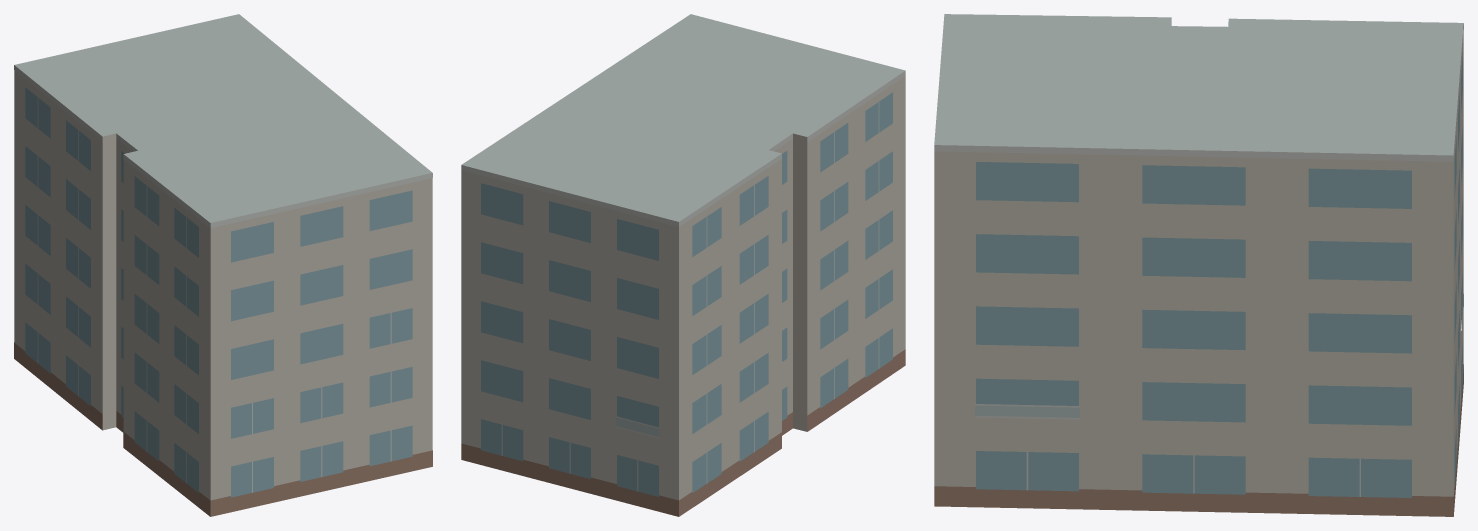
File: survey-upis-32670450.glb
The picture shows the model from 3 angles, left to right: view 1: azimuth 30°, elevation 25°; view 2: azimuth 150°, elevation 25°; view 3: azimuth 270°, elevation 25°; orthographic projection. The views are drawn at different scales.
Parts seen in each view (by area): view 1: survey-upis-32670450.tmp; view 2: survey-upis-32670450.tmp; view 3: survey-upis-32670450.tmp.
Boxes of the visible parts, x1,y1,x2,y2 form: survey-upis-32670450.tmp: (14, 14, 432, 516); survey-upis-32670450.tmp: (461, 14, 905, 516); survey-upis-32670450.tmp: (934, 14, 1463, 516).
Size of the model in its own units: 11.68 by 13.9 by 18.47.
